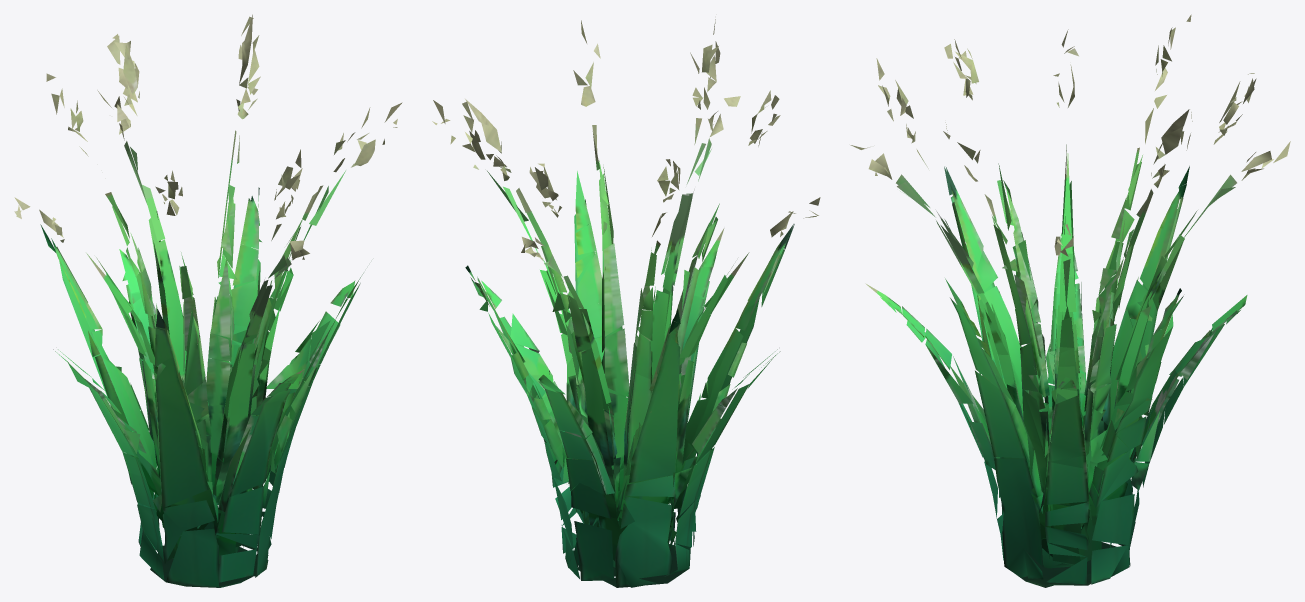
Rendered from Landing_GrassTuft.glb.
3 renders of one model, left to right at view 1: azimuth 30°, elevation 25°; view 2: azimuth 150°, elevation 25°; view 3: azimuth 270°, elevation 25°, orthographic. The views are drawn at different scales.
Visible parts, largest first — view 1: Landing_GrassTuft; view 2: Landing_GrassTuft; view 3: Landing_GrassTuft.
Boxes of the visible parts, x1,y1,x2,y2 form: Landing_GrassTuft: (14, 14, 402, 587); Landing_GrassTuft: (432, 19, 820, 587); Landing_GrassTuft: (850, 14, 1290, 587).
Bounding box in the file's own units: 0.4164 × 0.4962 × 0.3918.
Materials: 1 (1 with a texture image).
